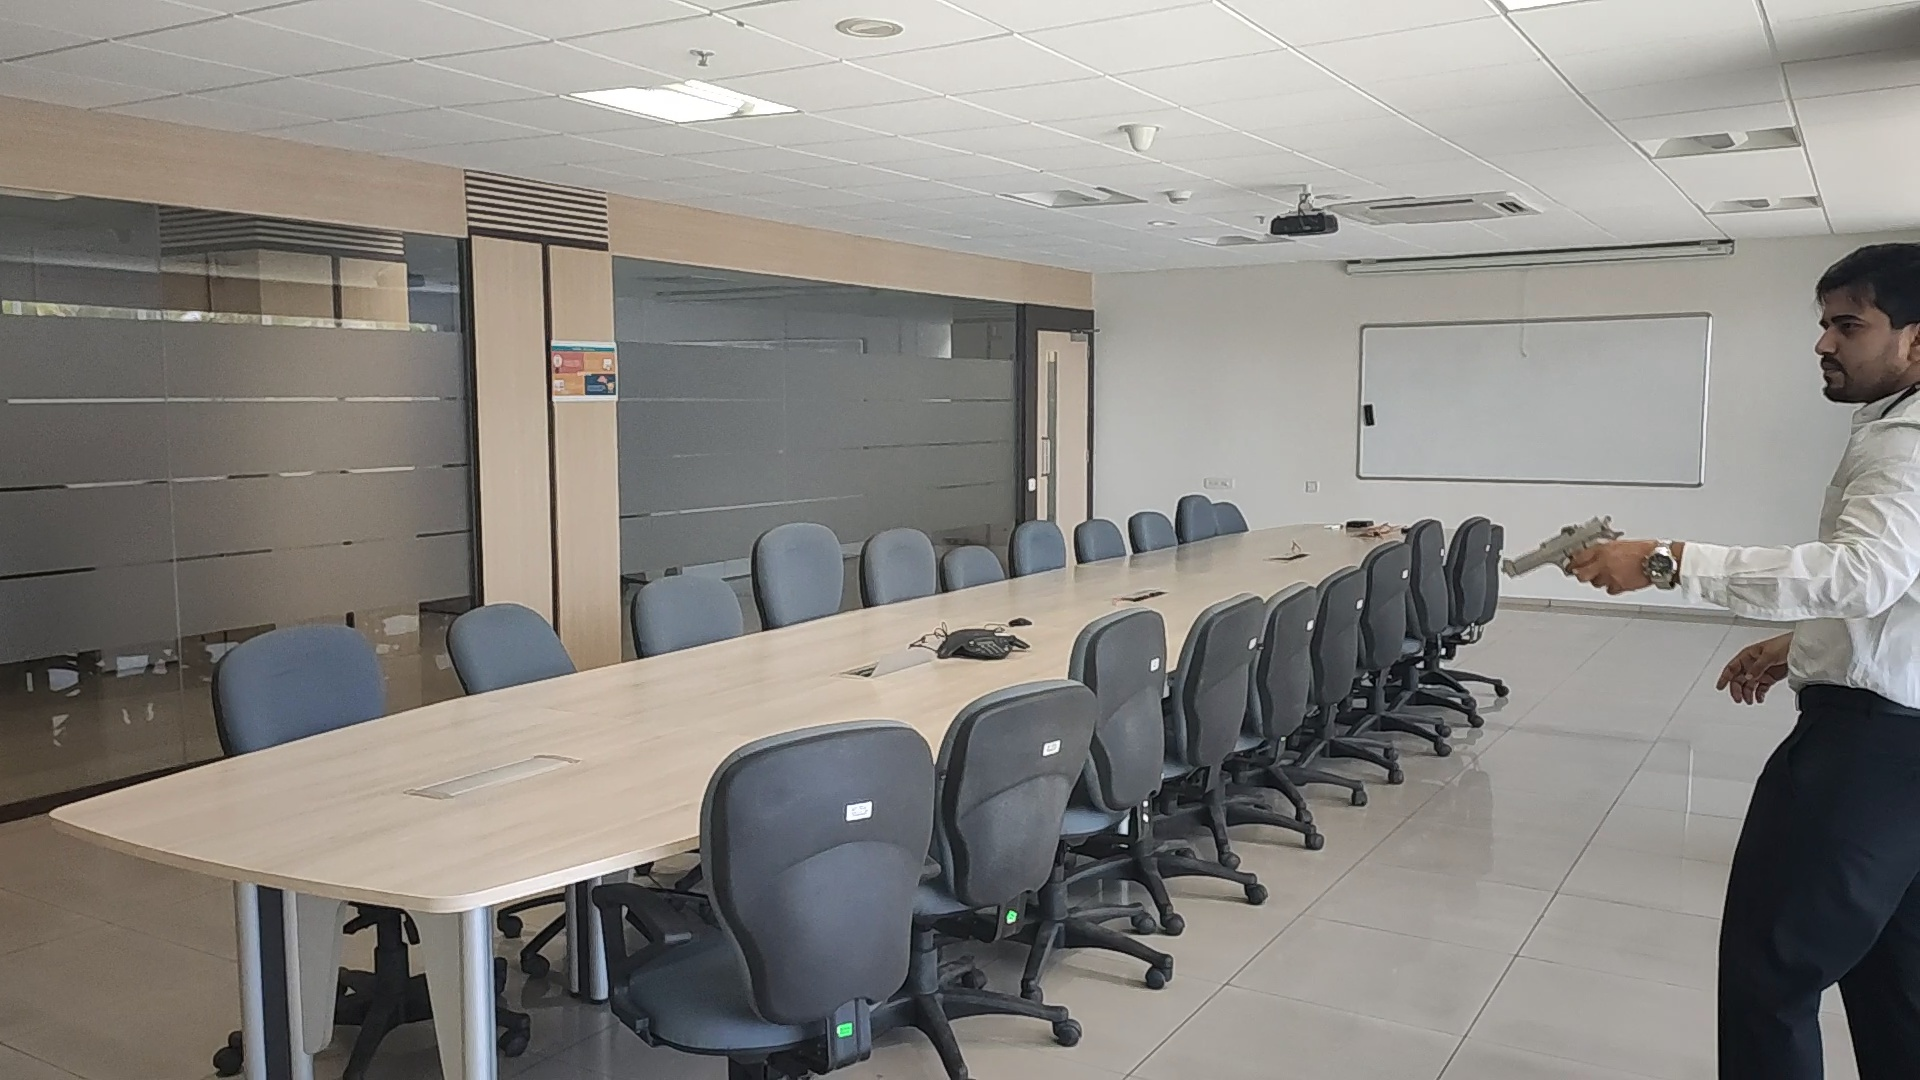gun: (1498, 512, 1619, 576)
